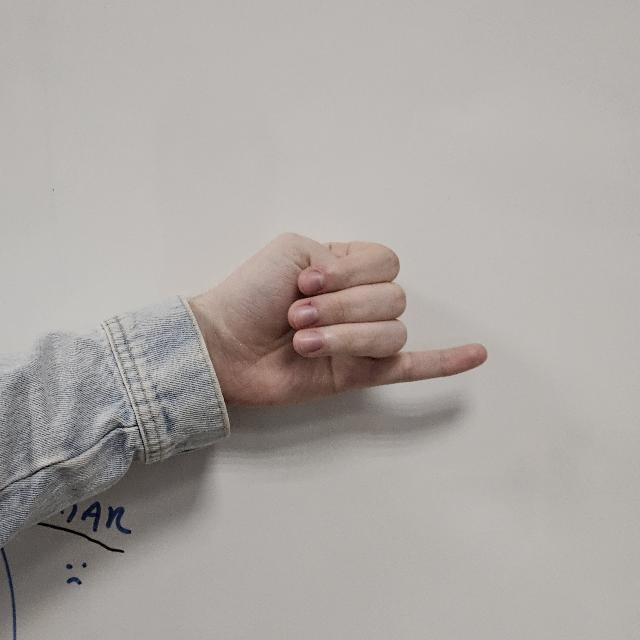Esquerda: (224, 215, 511, 411)
